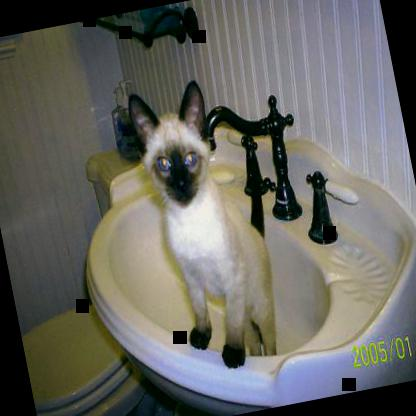cat: (124, 72, 288, 378)
